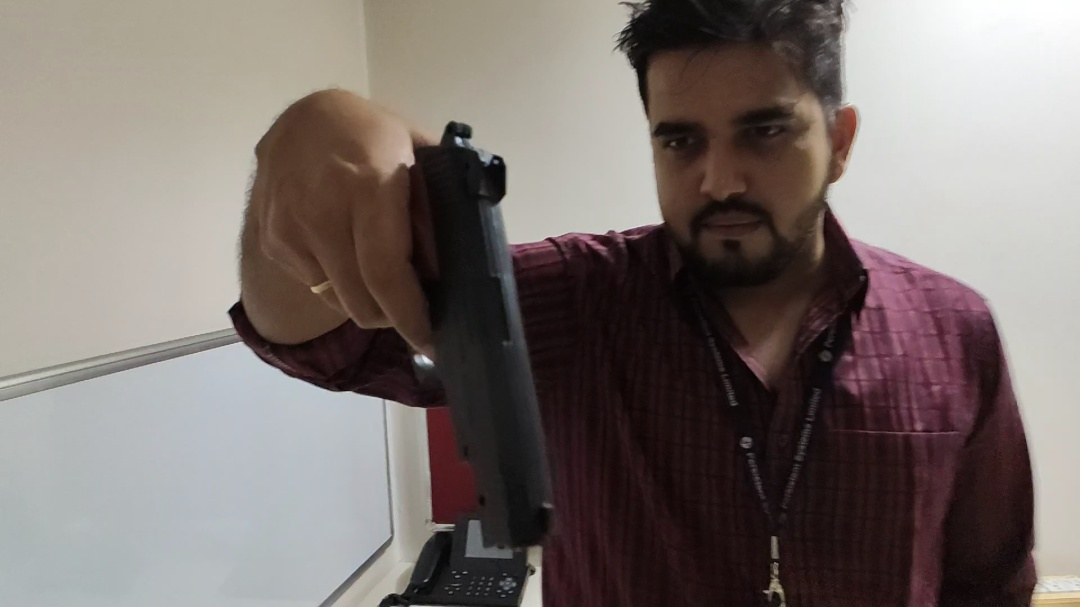gun: (344, 106, 596, 551)
